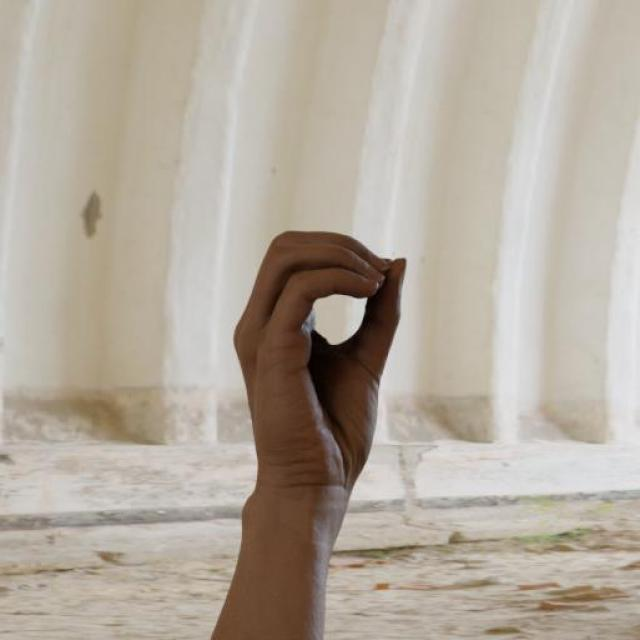O: (231, 225, 415, 500)
